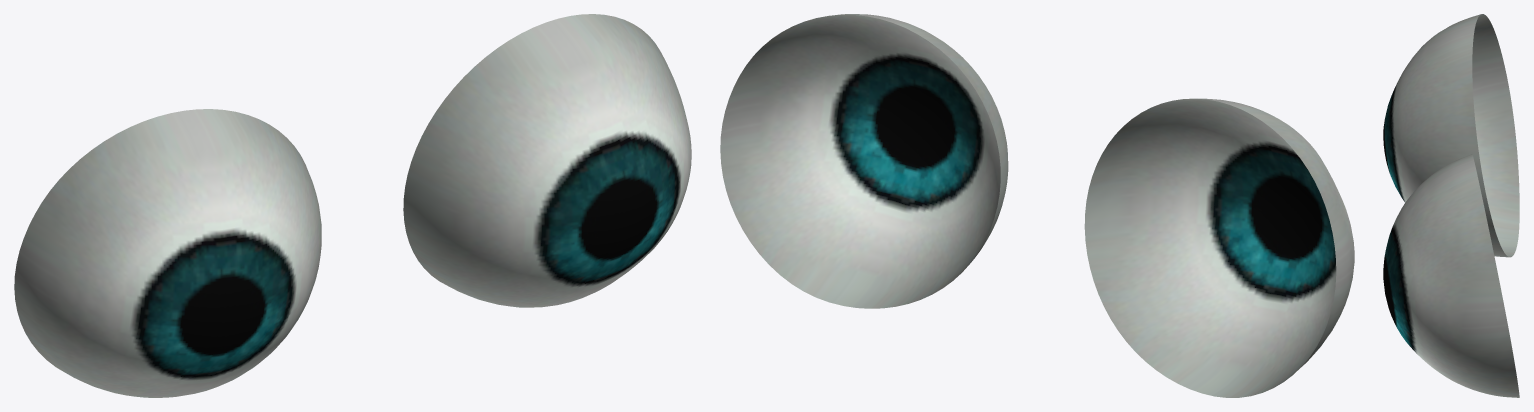
File: Male_Eyes_Blue.glb
The picture shows the model from 3 angles, left to right: view 1: azimuth 30°, elevation 25°; view 2: azimuth 150°, elevation 25°; view 3: azimuth 270°, elevation 25°; orthographic projection. The views are drawn at different scales.
Parts seen in each view (by area): view 1: Male_Eyes_Blue; view 2: Male_Eyes_Blue; view 3: Male_Eyes_Blue.
Part boxes in pixels (x1=…): Male_Eyes_Blue: x1=14, y1=14, x2=691, y2=397; Male_Eyes_Blue: x1=720, y1=14, x2=1354, y2=397; Male_Eyes_Blue: x1=1383, y1=14, x2=1519, y2=397.
Size of the model in its own units: 0.3476 by 0.1461 by 0.0823.
1 material, 1 textured.
